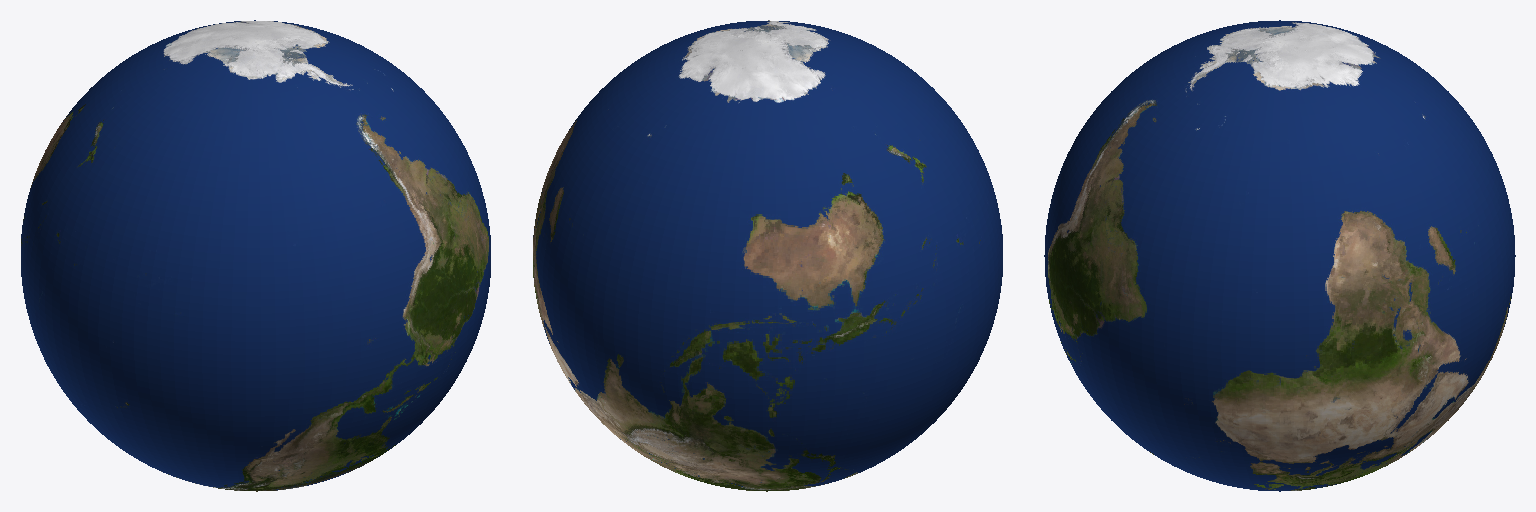
The picture shows the model from 3 angles: view 1: azimuth 30°, elevation 25°; view 2: azimuth 150°, elevation 25°; view 3: azimuth 270°, elevation 25°; orthographic projection.
Parts seen in each view (by area): view 1: Sphere; view 2: Sphere; view 3: Sphere.
Part boxes in pixels (x1,y1,x2,y2): Sphere: (21,20,490,491); Sphere: (533,20,1002,491); Sphere: (1044,20,1515,491).
Size of the model in its own units: 2 by 2 by 2.
Materials: 1 (1 with a texture image).